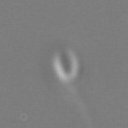normal: (70, 82, 105, 128)
